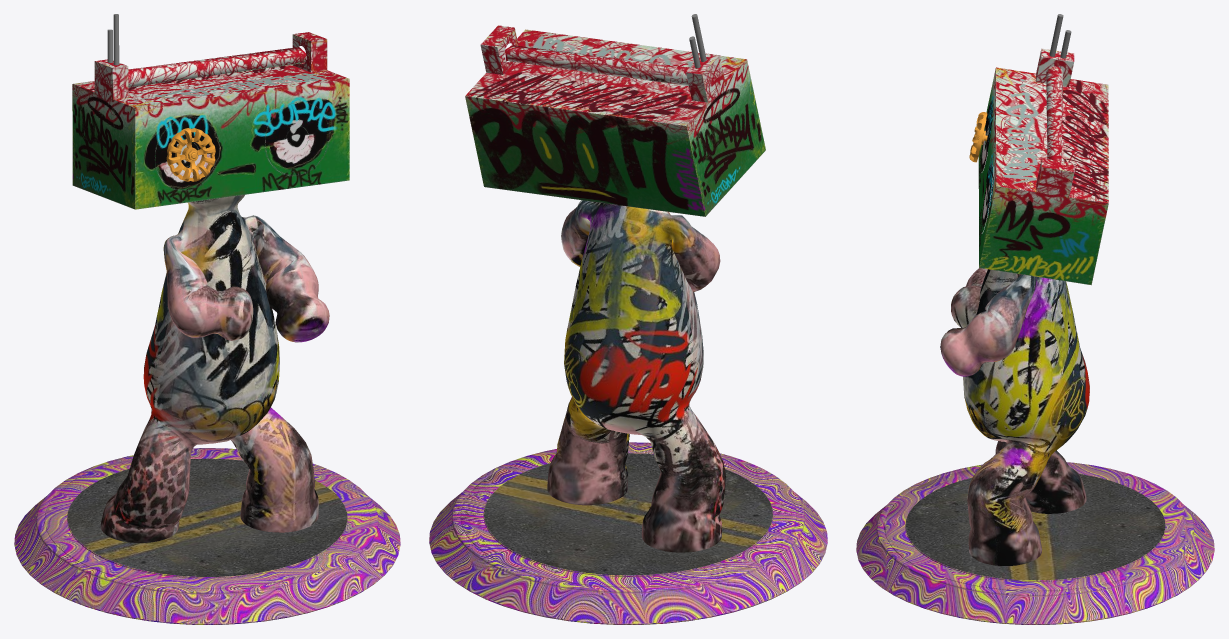
3 renders of one model, left to right at view 1: azimuth 30°, elevation 25°; view 2: azimuth 150°, elevation 25°; view 3: azimuth 270°, elevation 25°, orthographic. The views are drawn at different scales.
Size of the model in its own units: 1.45 by 2.23 by 1.45.
Materials: 6 (5 with a texture image).
